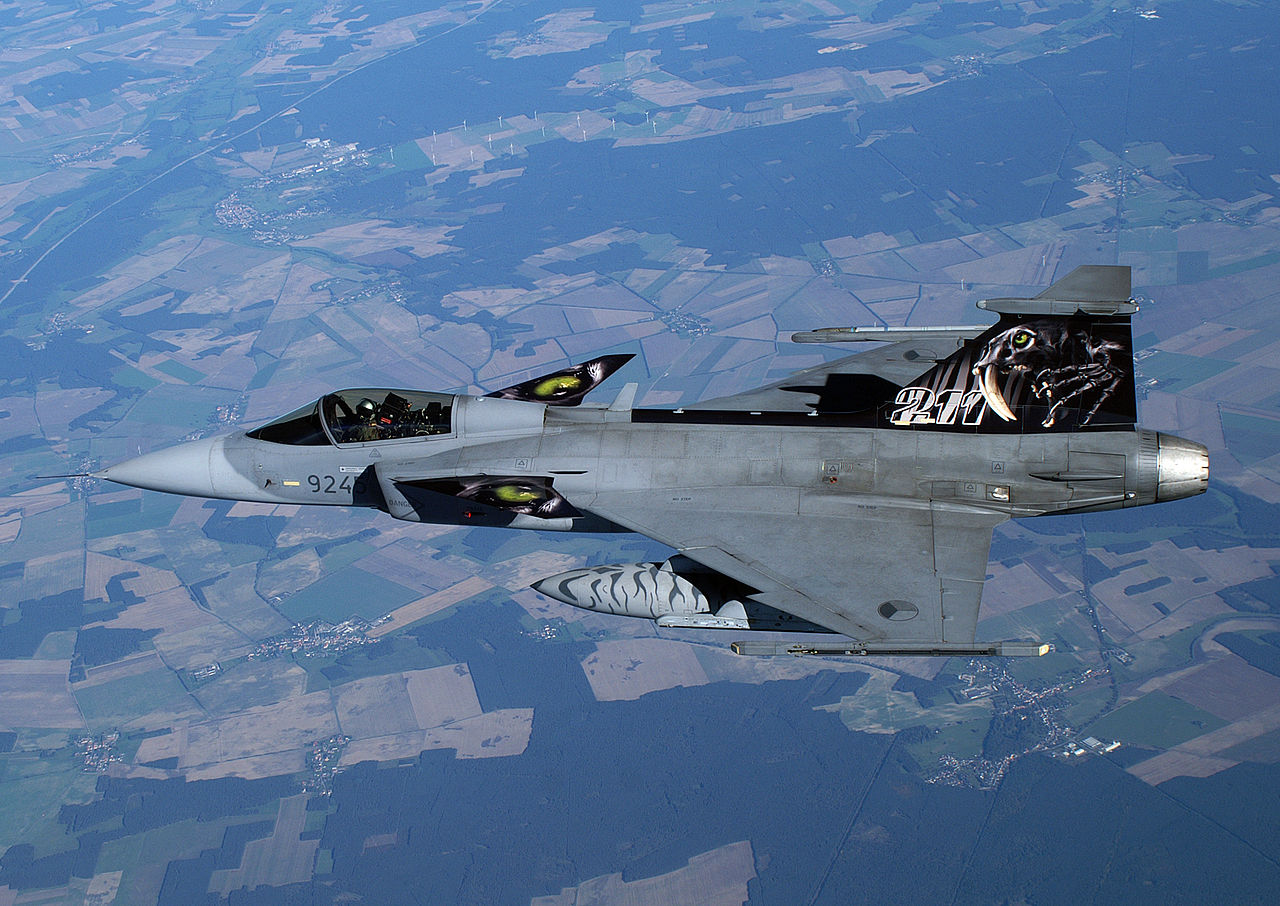JAS39: (35, 263, 1208, 655)
